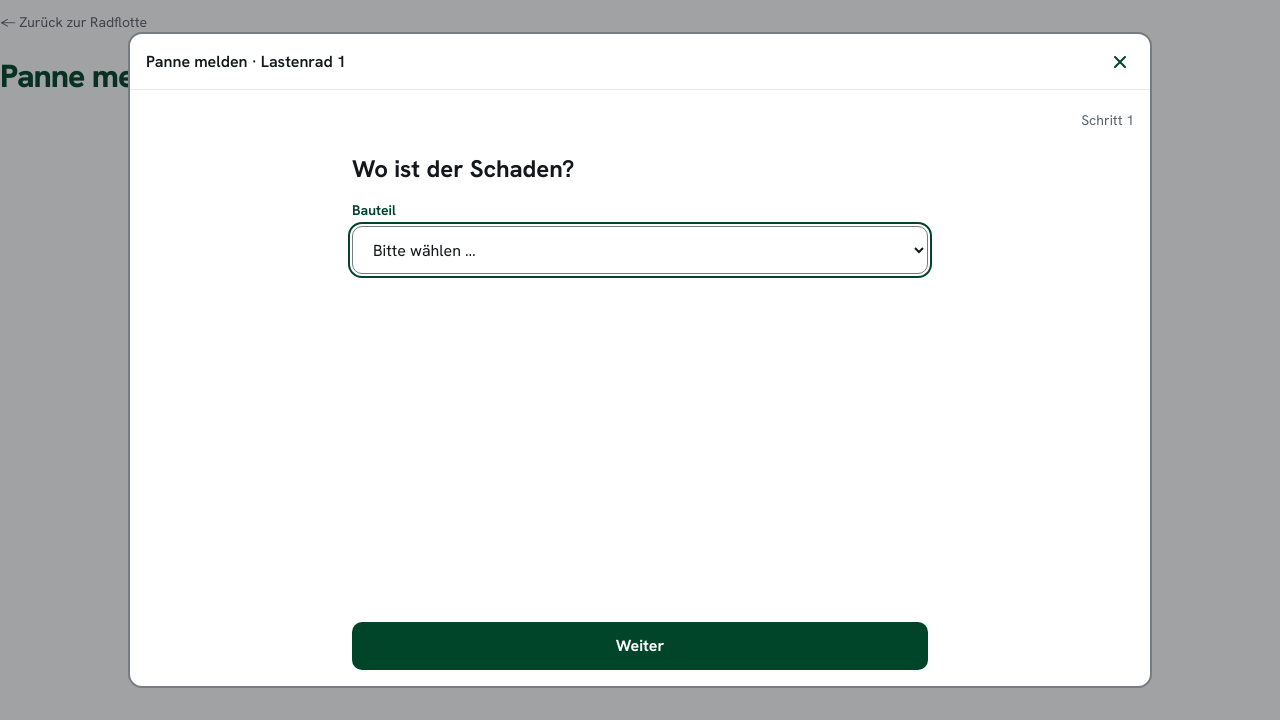
Test: Panne melden › geht an einem anderen Tag ohne Frage zur Vertragswerkstatt (BEF-176)
Click the button "Weiter" at (640, 646), box x1=352 y1=622 x2=928 y2=670
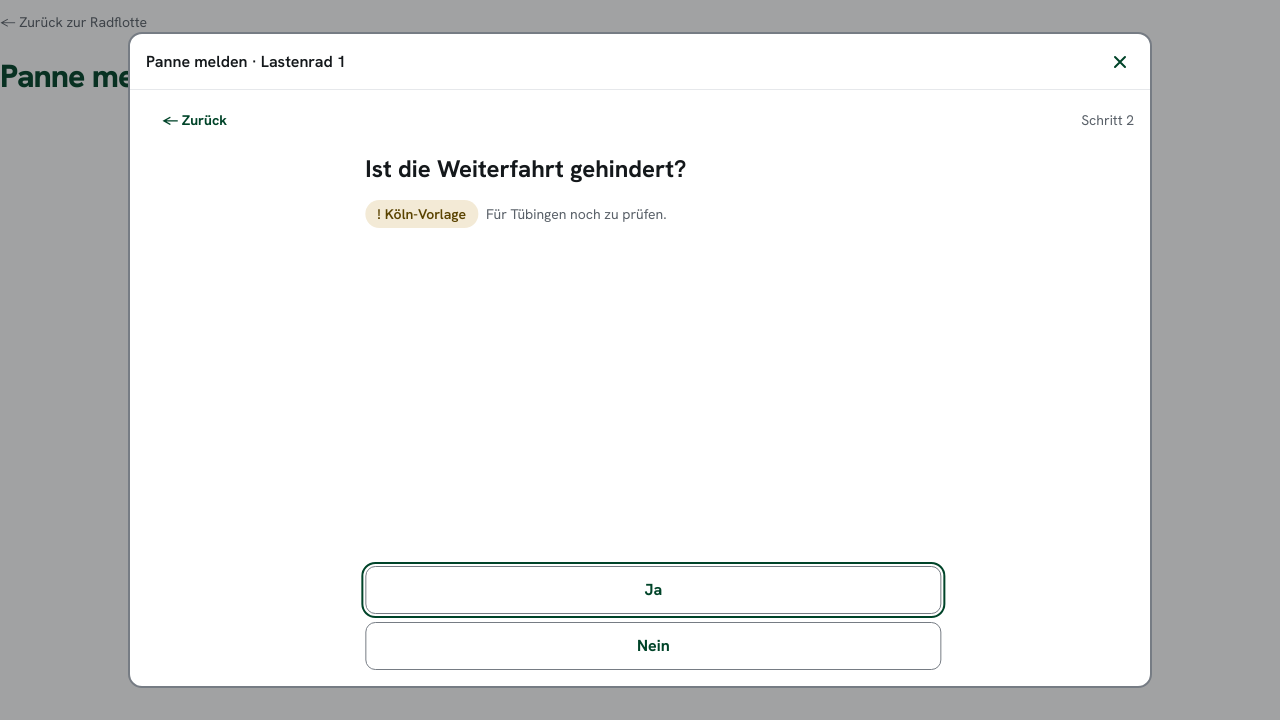
Click the button "Ja" at (649, 590), box x1=361 y1=566 x2=937 y2=614
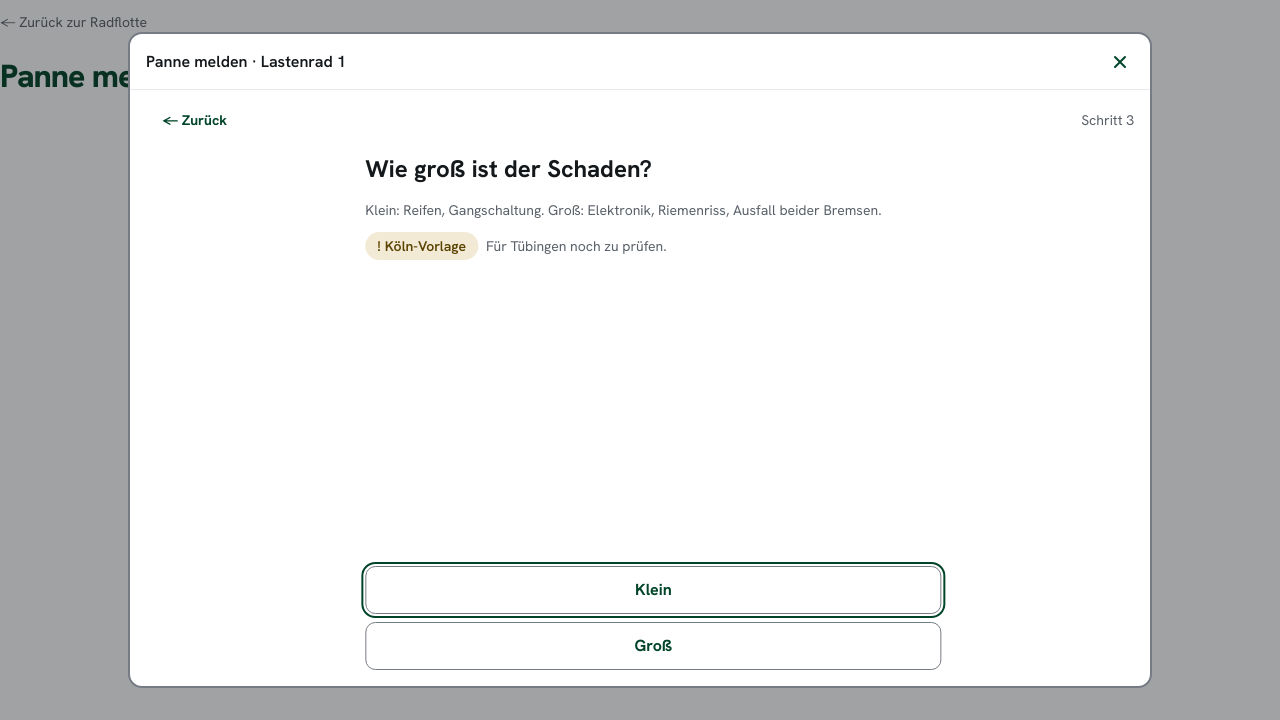
Click the button "Groß" at (653, 646), box x1=365 y1=622 x2=941 y2=670
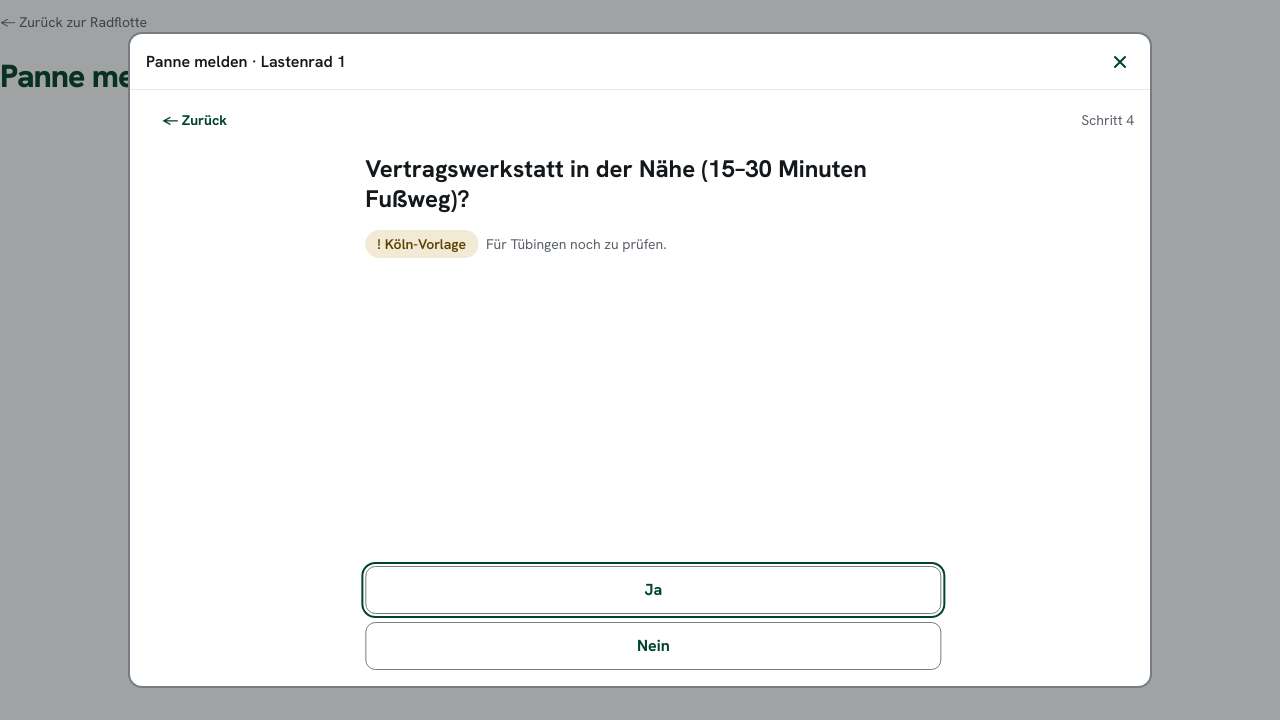
Click the button "← Zurück" at (195, 120), box x1=146 y1=98 x2=243 y2=142
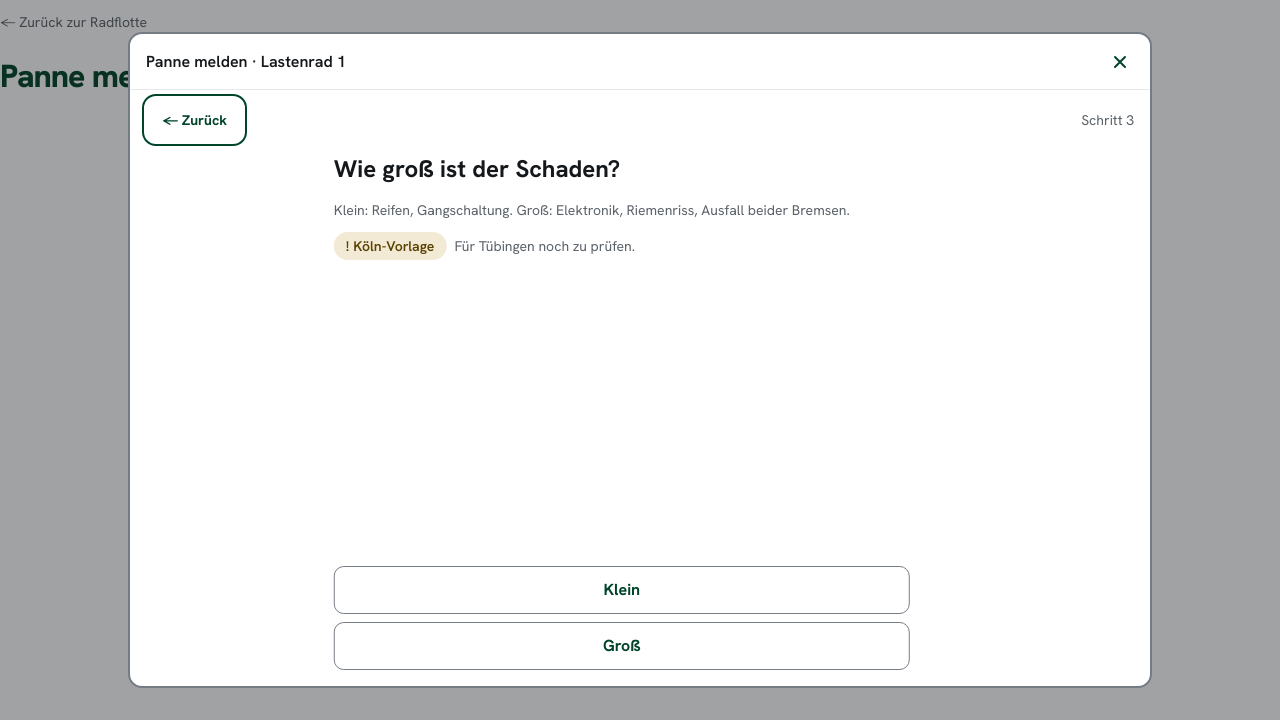
Check: the dialog "Wie groß ist der Schaden?" is shown
